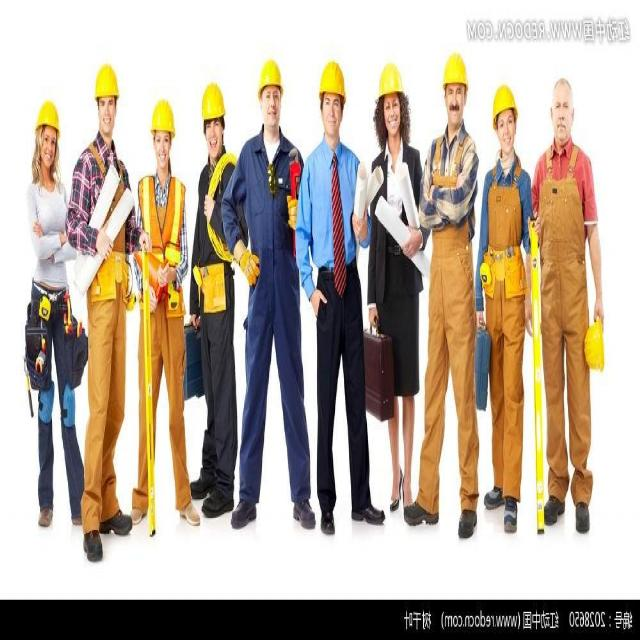Reflective-Jacket: (136, 172, 187, 292)
Safety-Helmet: (582, 312, 607, 376), (374, 55, 406, 102), (316, 54, 349, 99), (440, 44, 470, 92), (92, 56, 122, 101), (256, 52, 286, 97), (148, 92, 178, 136), (490, 77, 519, 122), (32, 91, 62, 133), (200, 75, 227, 121)
